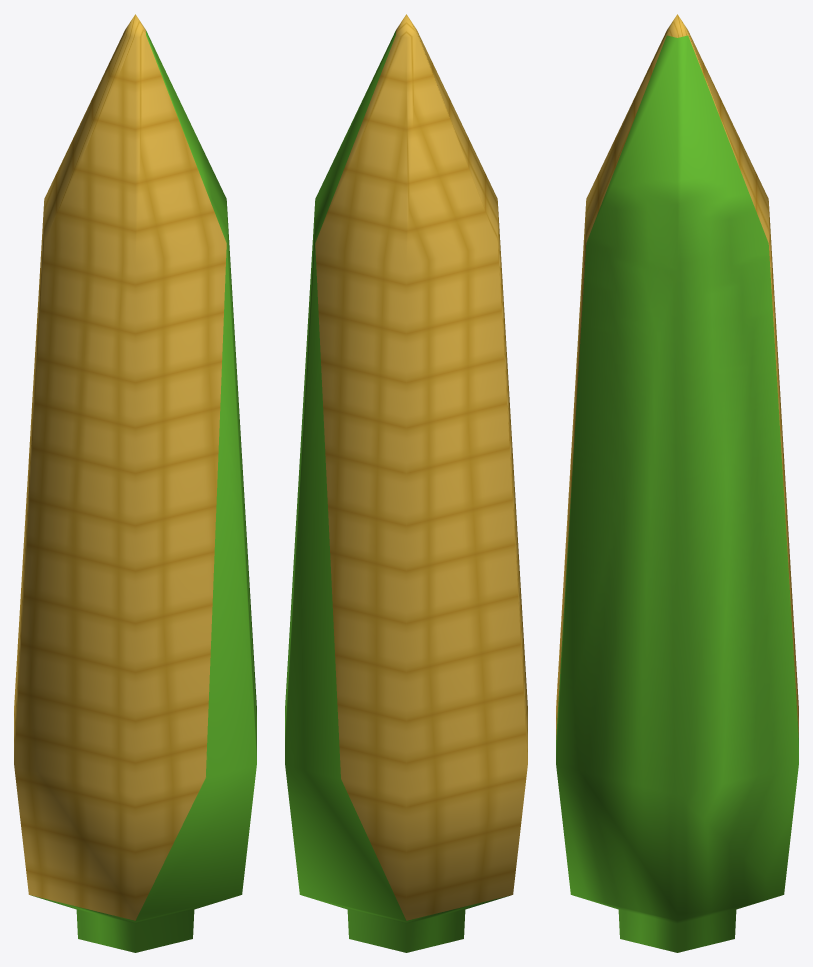
Rendered from 001-sweetcorn.FBX.
3 views of the same model, side by side, from view 1: azimuth 30°, elevation 25°; view 2: azimuth 150°, elevation 25°; view 3: azimuth 270°, elevation 25° (orthographic).
Parts seen in each view (by area): view 1: 001-sweetcorn; view 2: 001-sweetcorn; view 3: 001-sweetcorn.
Part boxes in pixels (x1,y1,x2,y2): 001-sweetcorn: [14, 14, 256, 952]; 001-sweetcorn: [285, 14, 527, 952]; 001-sweetcorn: [556, 14, 798, 952].
Size of the model in its own units: 5.32 by 19.07 by 4.6.
